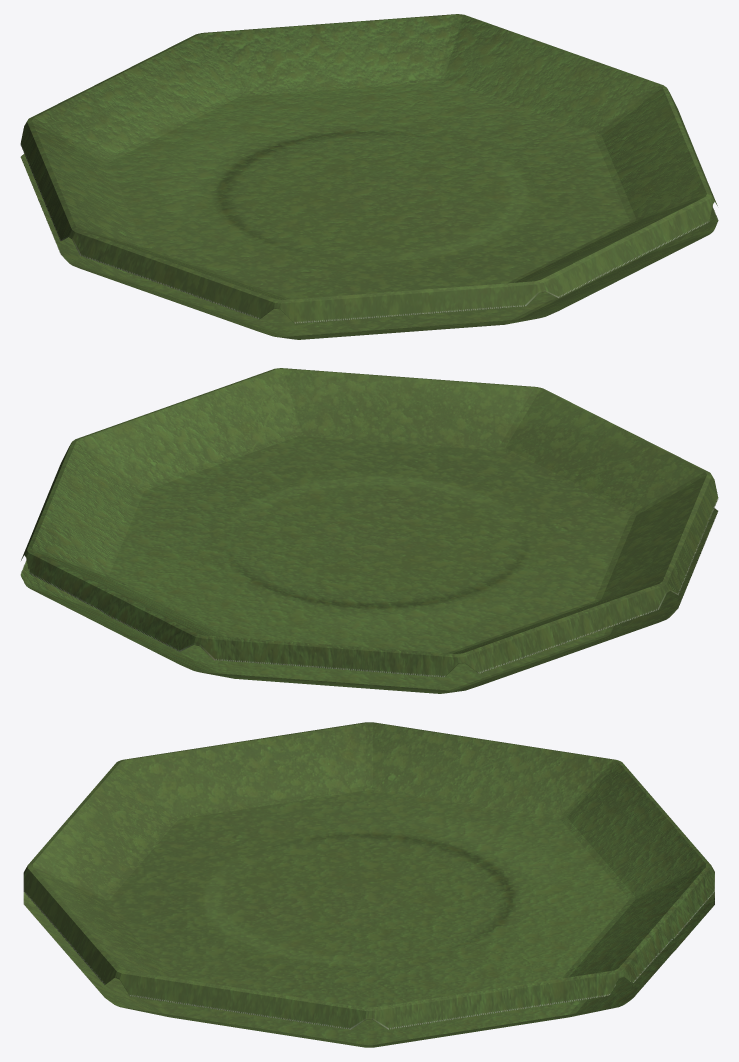
Rendered from Tanjur.fbx.
The picture shows the model from 3 angles, top to bottom: view 1: azimuth 30°, elevation 25°; view 2: azimuth 150°, elevation 25°; view 3: azimuth 270°, elevation 25°; orthographic projection.
Parts seen in each view (by area): view 1: Tanjur; view 2: Tanjur; view 3: Tanjur.
Boxes of the visible parts, bbox=[...] form: Tanjur: bbox=[20, 14, 718, 339]; Tanjur: bbox=[20, 368, 718, 693]; Tanjur: bbox=[23, 722, 714, 1047].
Size of the model in its own units: 983 by 104 by 983.
